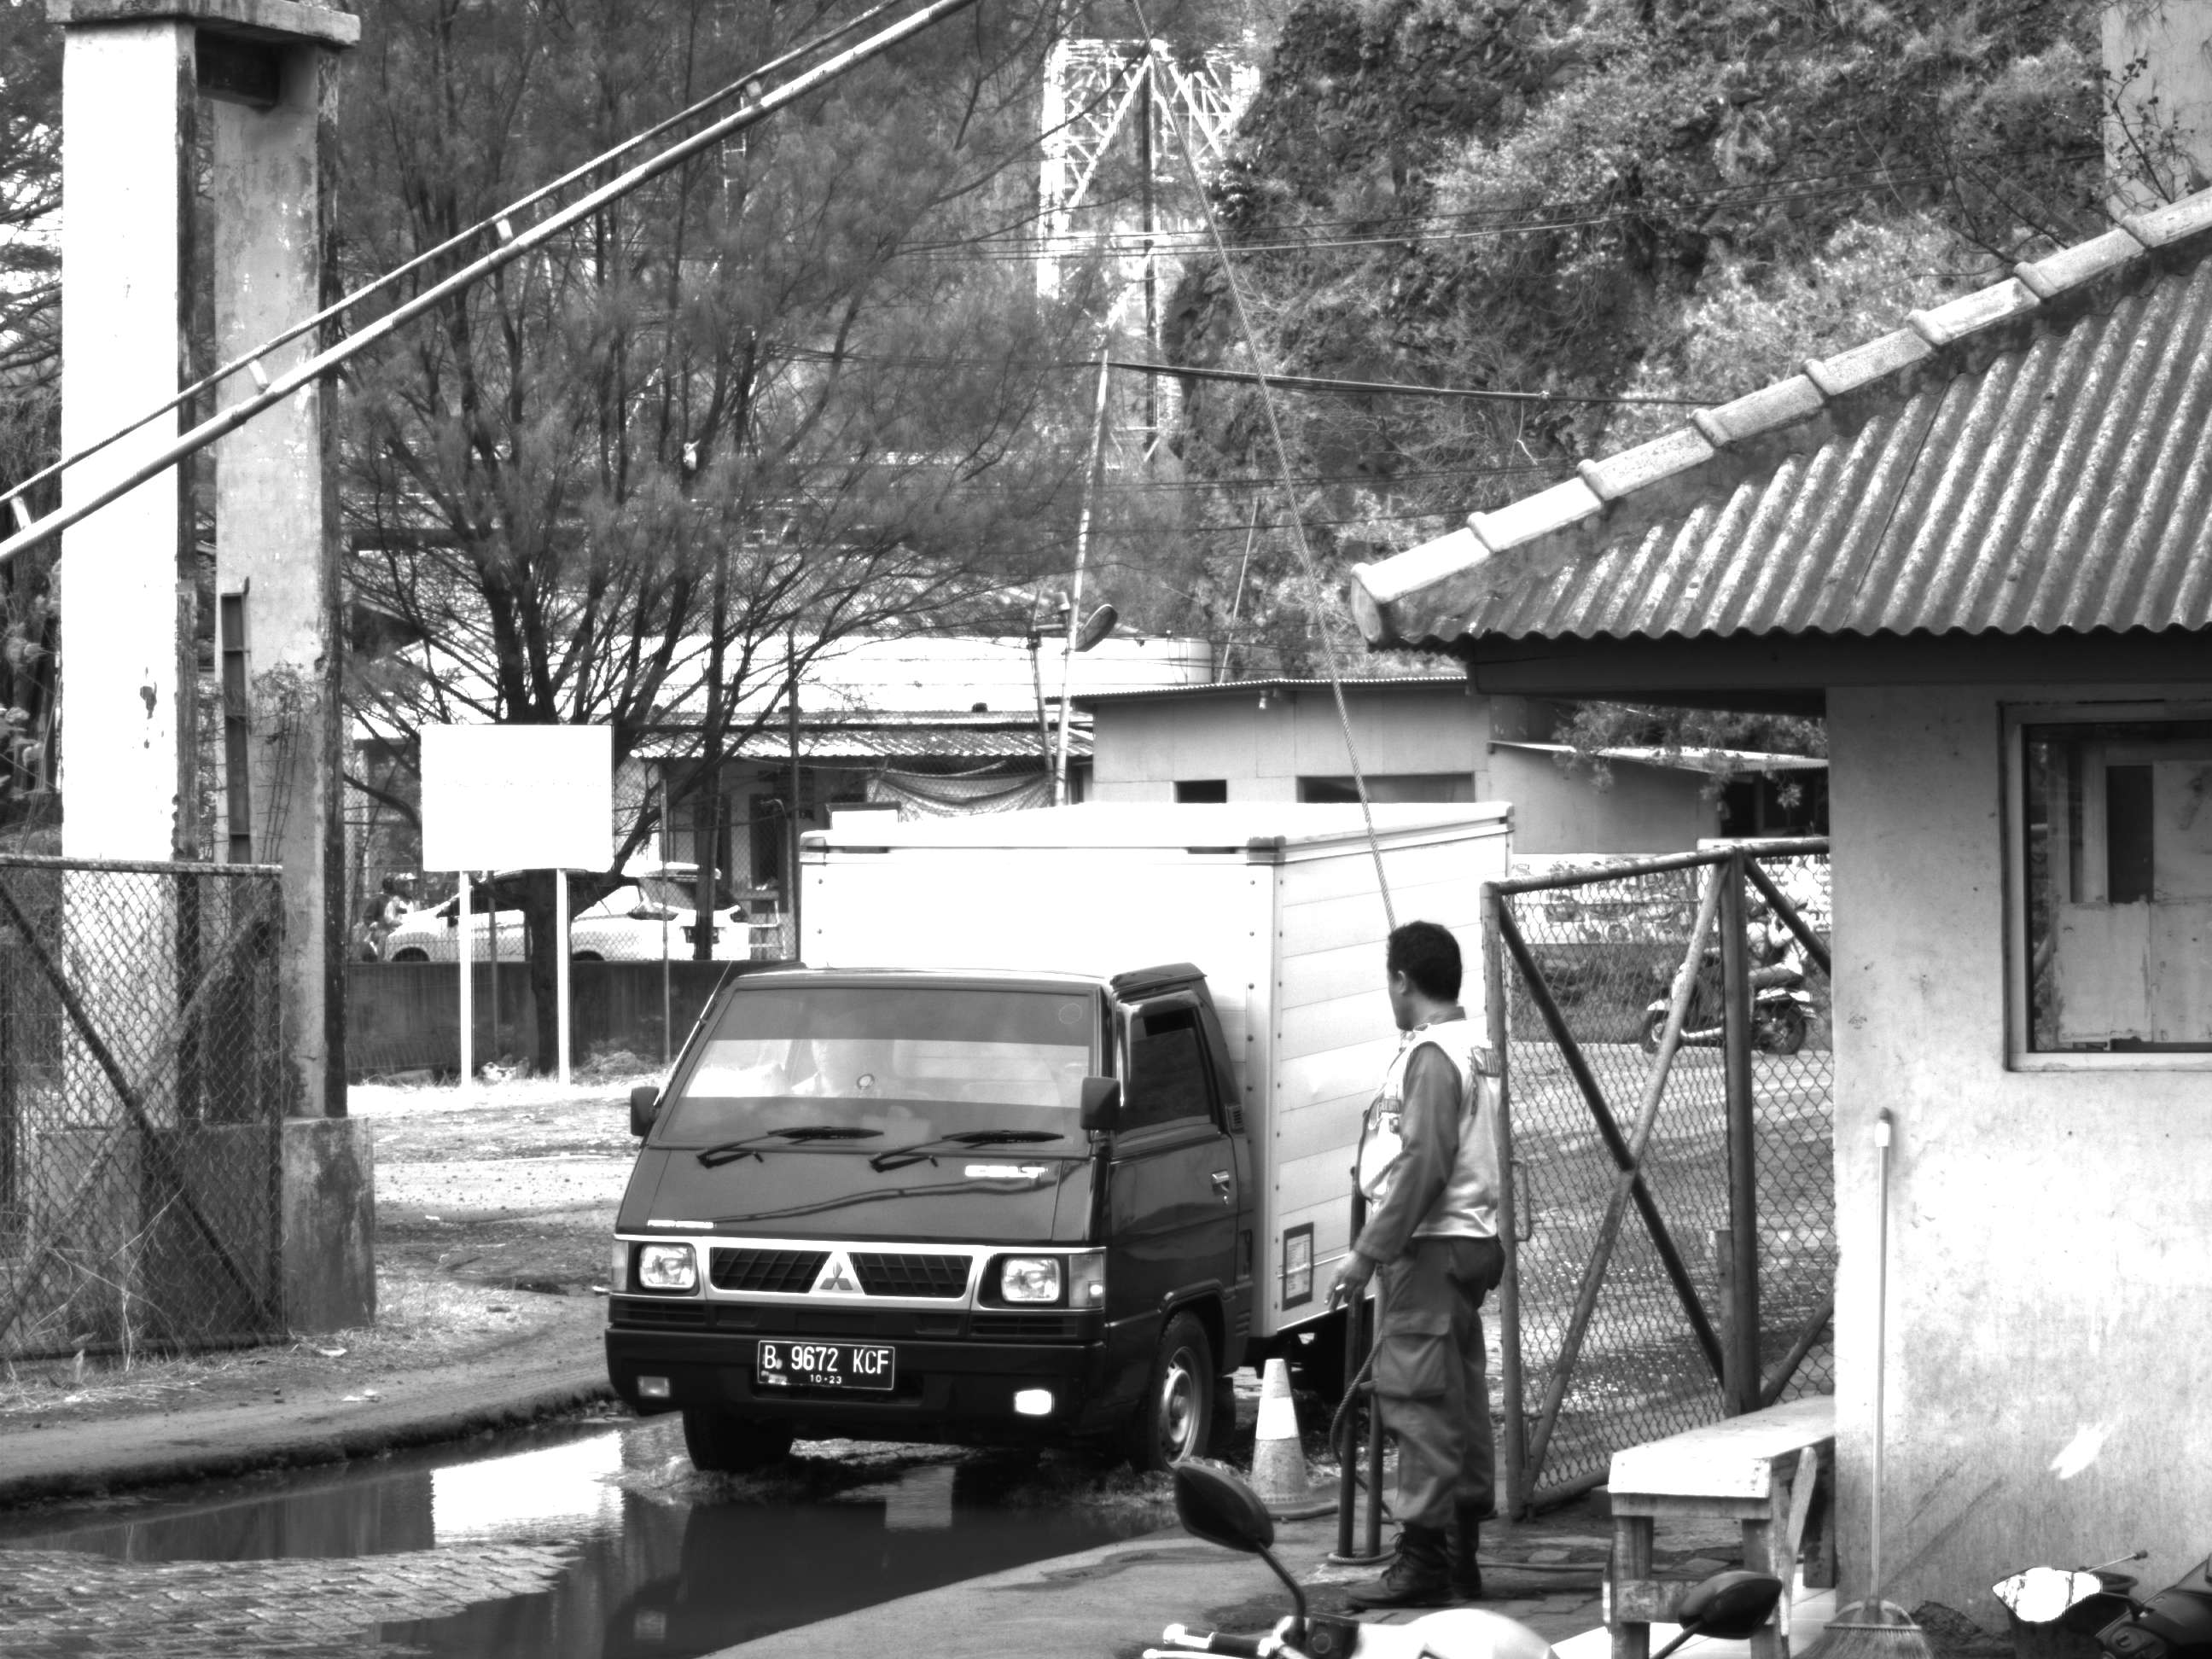day_truck_front: (617, 777, 1295, 1481)
plate: (753, 1336, 907, 1401)
